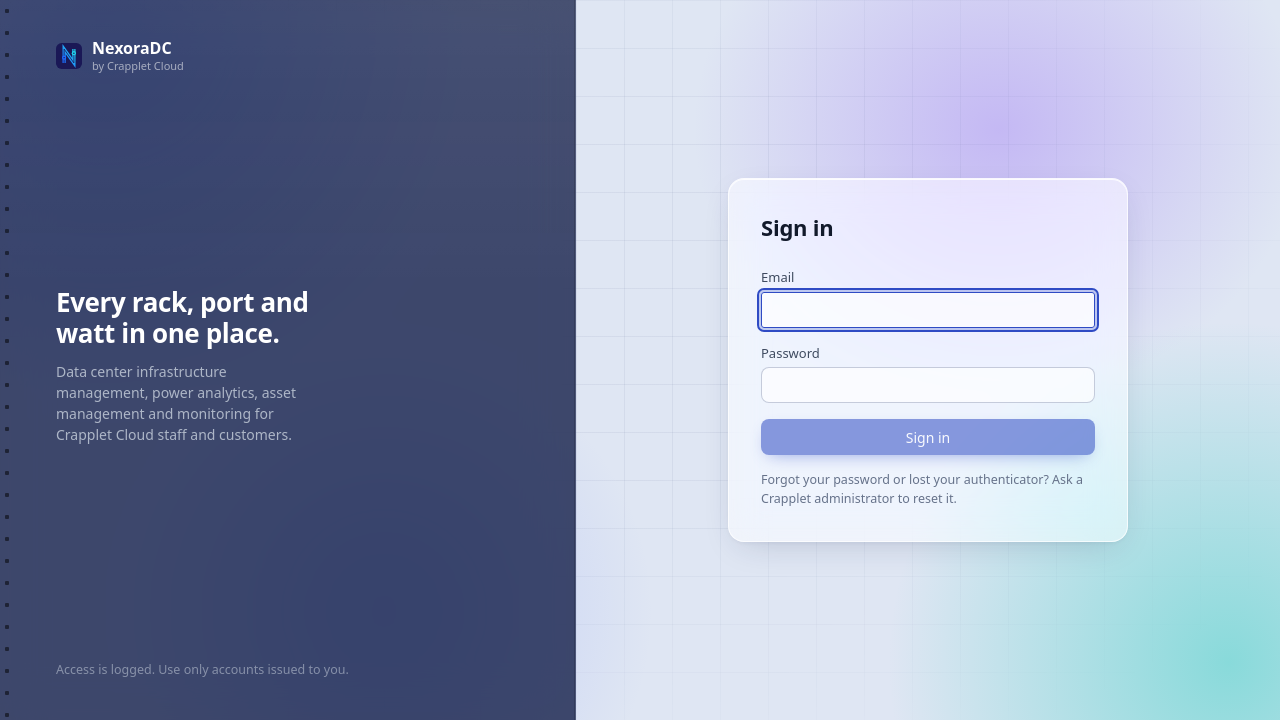
Test case: login page › shows the server error message on bad credentials
The width and height of the screenshot is (1280, 720).
In the field labelled "Email": [928, 310] box [761,292,1095,328], type "a@b.co"
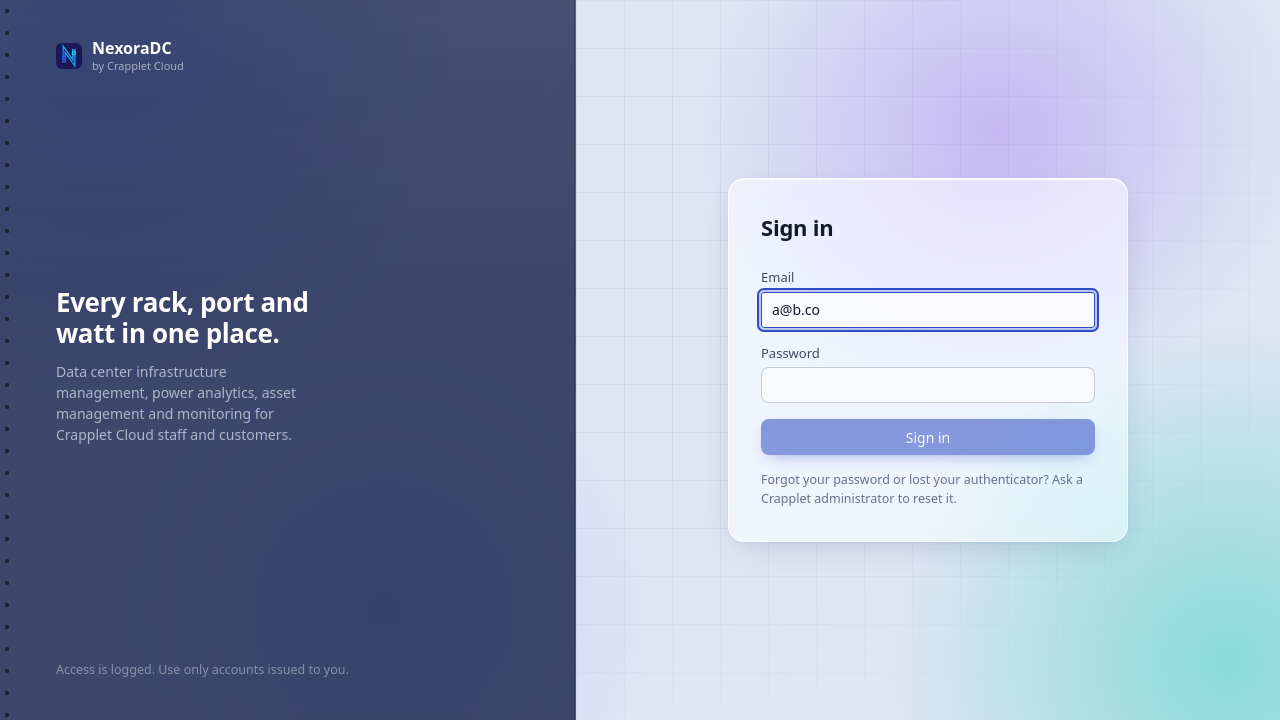
In the password field labelled "Password": [928, 385] box [761,367,1095,403], type "wrong"
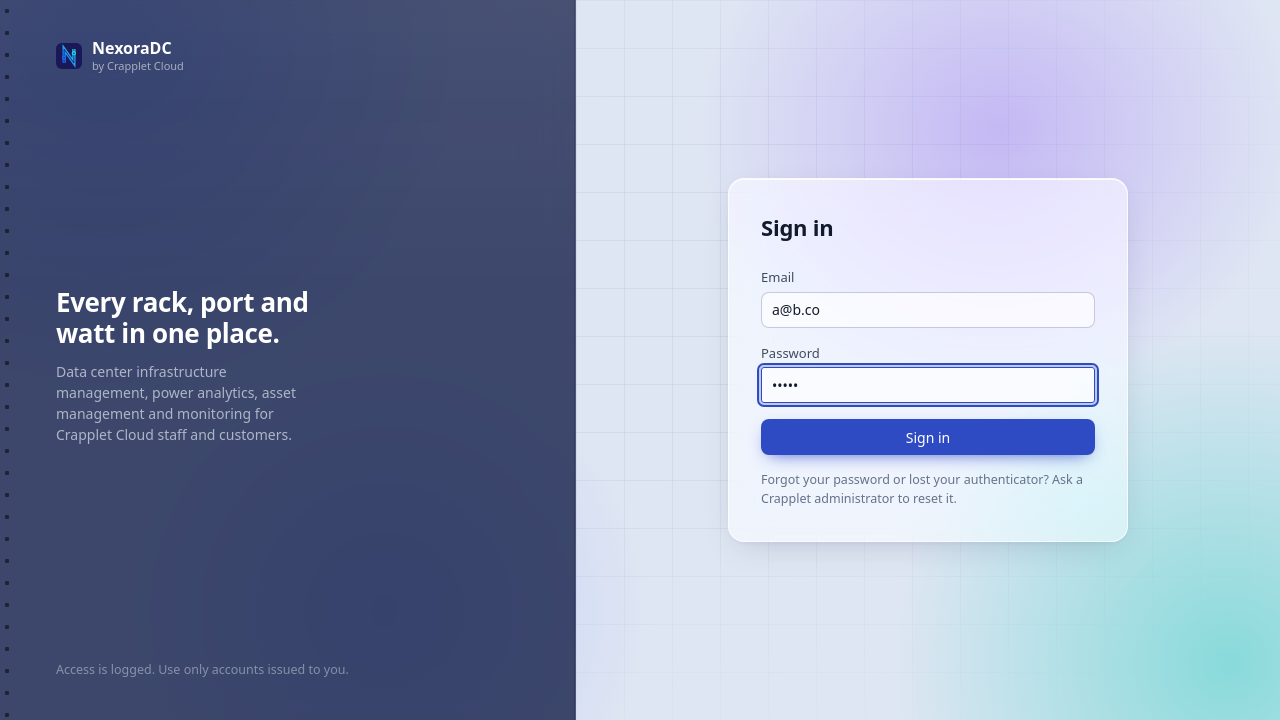
Click the button "Sign in": [928, 437] box [761,419,1095,455]
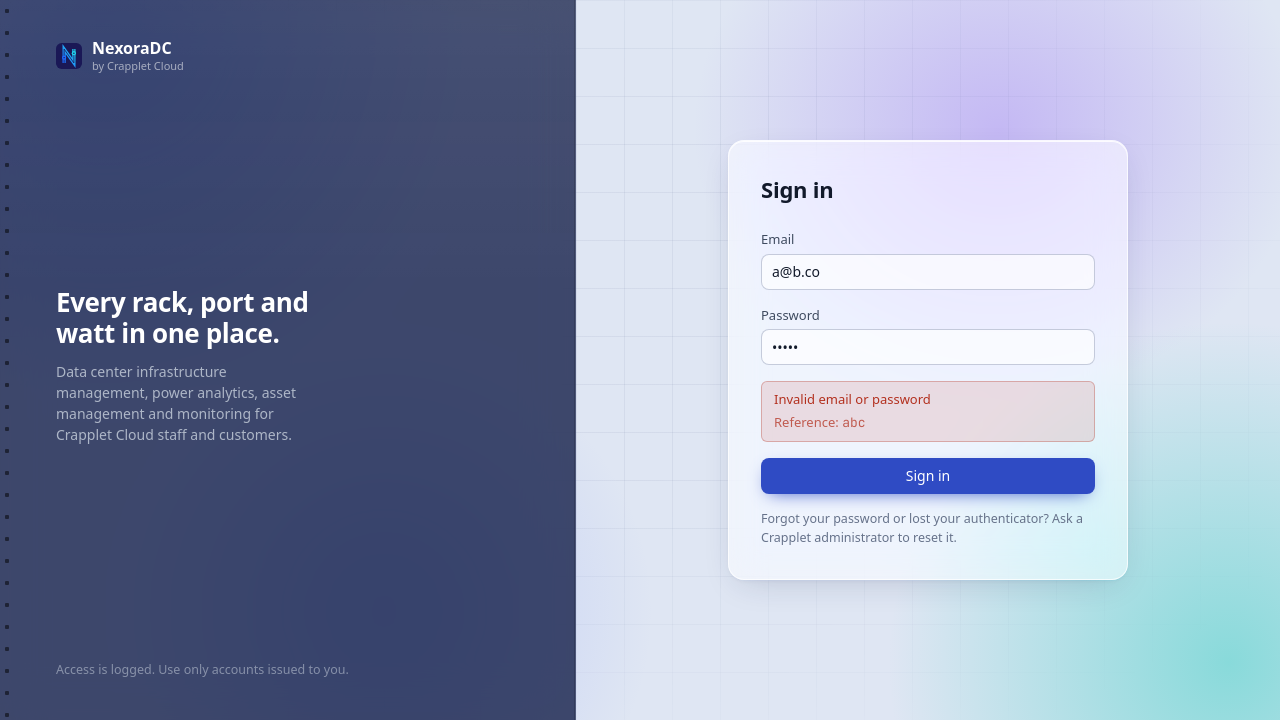
Check: the message shows "Invalid email or password", box [774,390,931,408]
